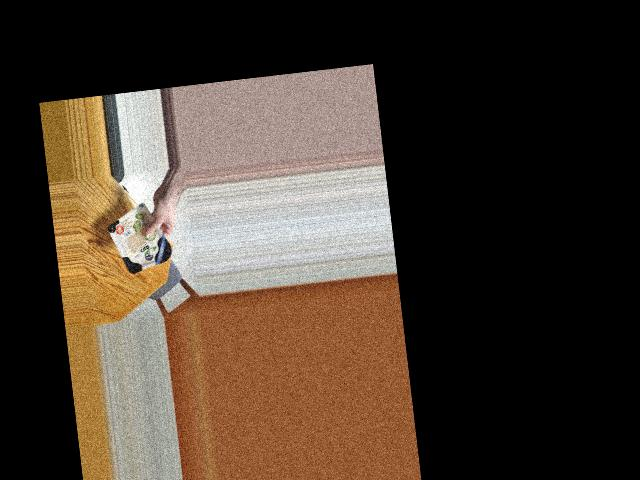cheese: (109, 211, 171, 278)
